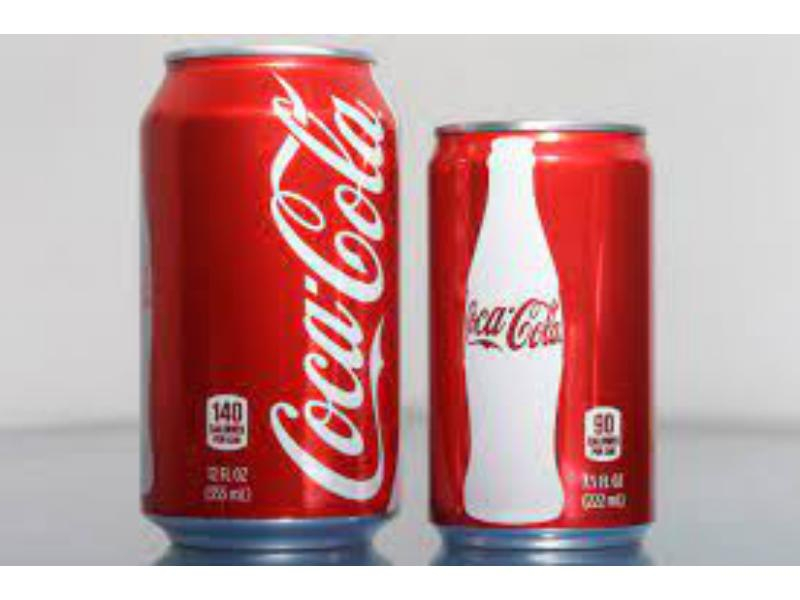can: (132, 40, 403, 558), (420, 108, 662, 556)
